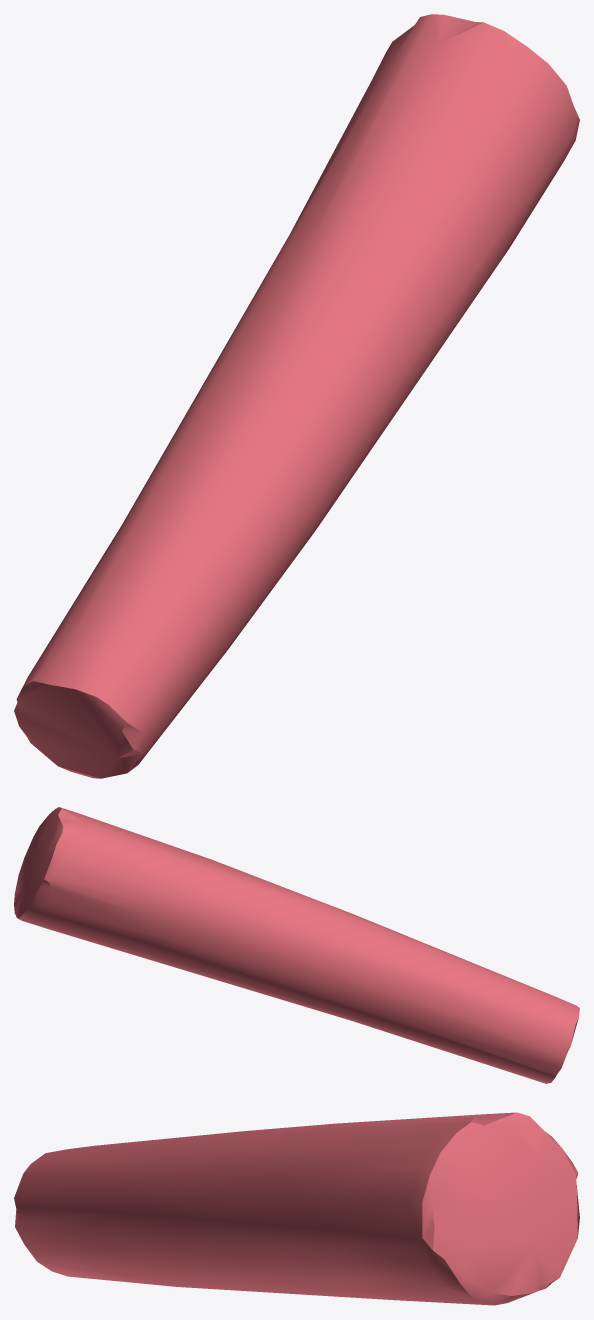
File: fma8631_fj6077.glb
The picture shows the model from 3 angles, top to bottom: view 1: azimuth 30°, elevation 25°; view 2: azimuth 150°, elevation 25°; view 3: azimuth 270°, elevation 25°; orthographic projection. The views are drawn at different scales.
Parts seen in each view (by area): view 1: FMA8631_FJ6077; view 2: FMA8631_FJ6077; view 3: FMA8631_FJ6077.
Part boxes in pixels (left/top/right/bottom): FMA8631_FJ6077: left=14, top=14, right=579, bottom=778; FMA8631_FJ6077: left=14, top=807, right=579, bottom=1083; FMA8631_FJ6077: left=14, top=1112, right=579, bottom=1305.
Bounding box in the file's own units: 0.0121 × 0.00718 × 0.00862.
